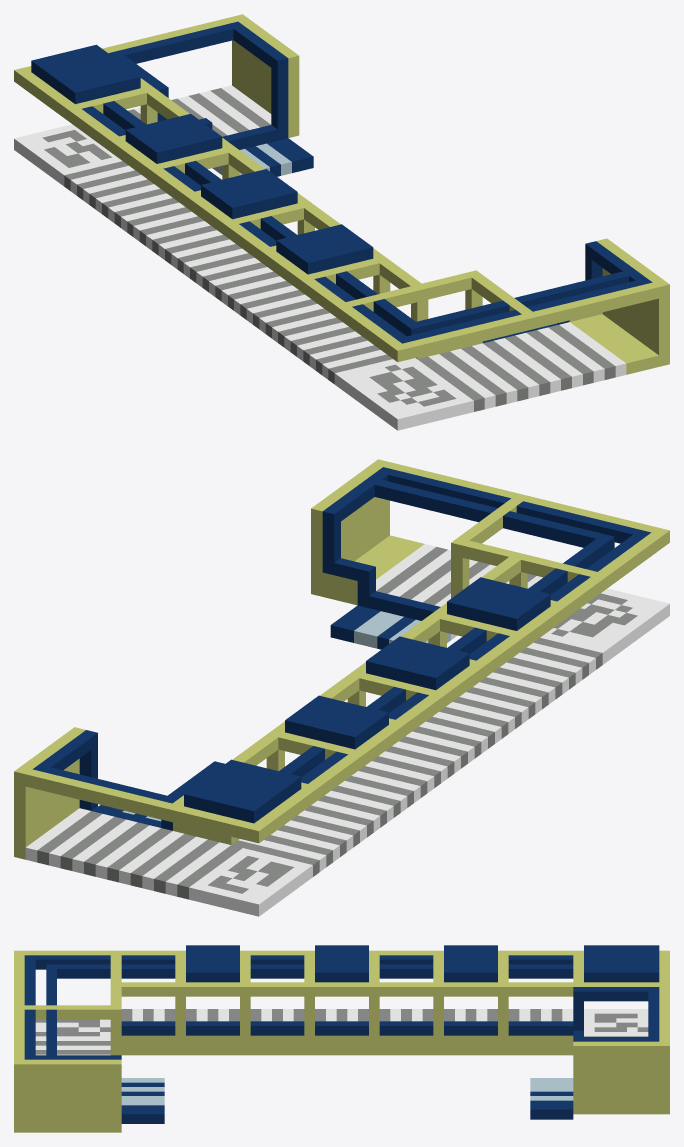
File: Segregate1.obj
The picture shows the model from 3 angles, top to bottom: view 1: azimuth 30°, elevation 25°; view 2: azimuth 150°, elevation 25°; view 3: azimuth 270°, elevation 25°; orthographic projection. The views are drawn at different scales.
Size of the model in its own units: 2.5 by 0.9 by 6.1.
Materials: 1 (1 with a texture image).
